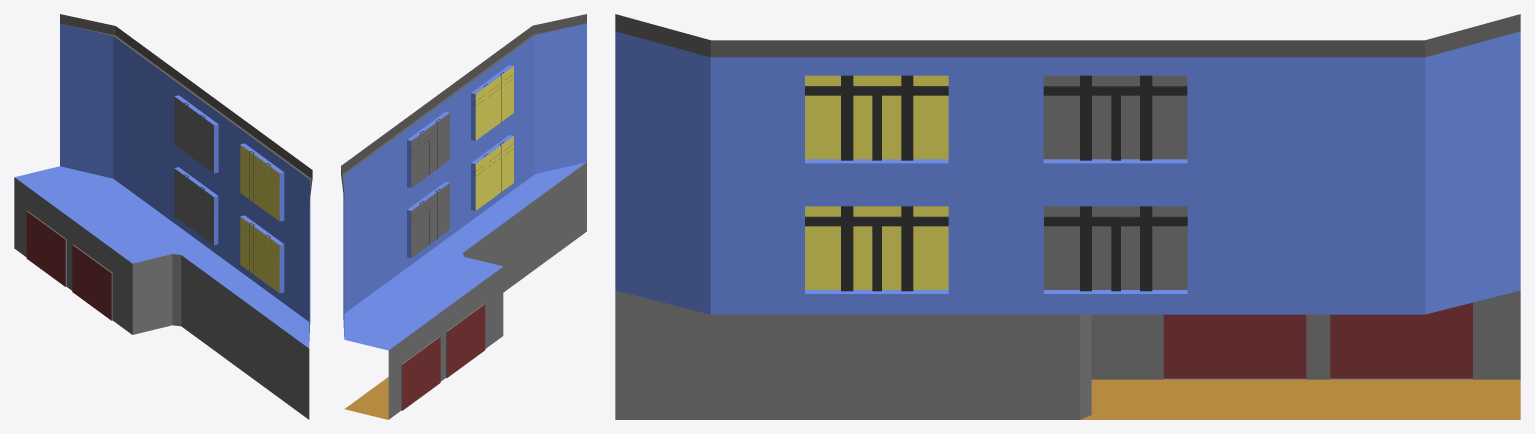
Rendered from model-scenario-static-level0-building-0.fbx.
3 renders of one model, left to right at view 1: azimuth 30°, elevation 25°; view 2: azimuth 150°, elevation 25°; view 3: azimuth 270°, elevation 25°, orthographic. The views are drawn at different scales.
Visible parts, largest first — view 1: building; view 2: building; view 3: building.
Part boxes in pixels (bbox=[...]): building: bbox=[14, 14, 312, 419]; building: bbox=[341, 14, 586, 419]; building: bbox=[615, 14, 1520, 419].
Size of the model in its own units: 38 by 6.7 by 18.8.
Materials: 4 (4 with a texture image).
